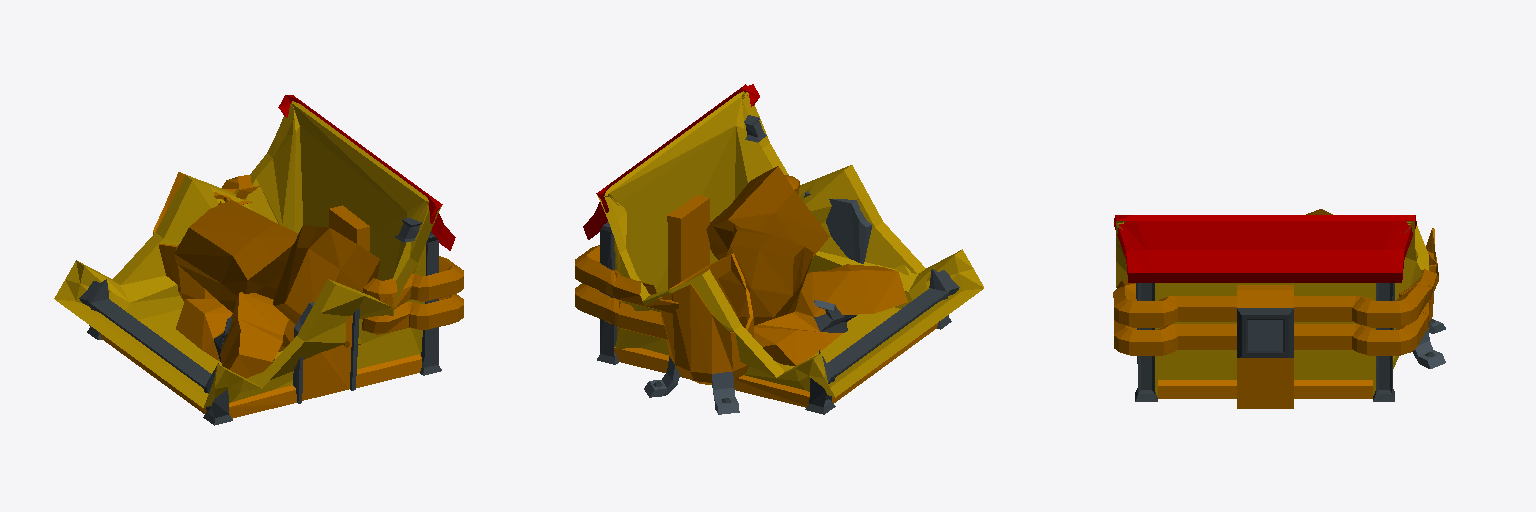
The picture shows the model from 3 angles: view 1: azimuth 30°, elevation 25°; view 2: azimuth 150°, elevation 25°; view 3: azimuth 270°, elevation 25°; orthographic projection.
Parts seen in each view (by area): view 1: Cube; view 2: Cube; view 3: Cube.
Boxes of the visible parts, x1=… form: Cube: x1=54, y1=95, x2=463, y2=425; Cube: x1=575, y1=84, x2=983, y2=414; Cube: x1=1113, y1=209, x2=1445, y2=408.
Bounding box in the file's own units: 7.37 × 4.71 × 7.89.
Materials: 1 (1 with a texture image).